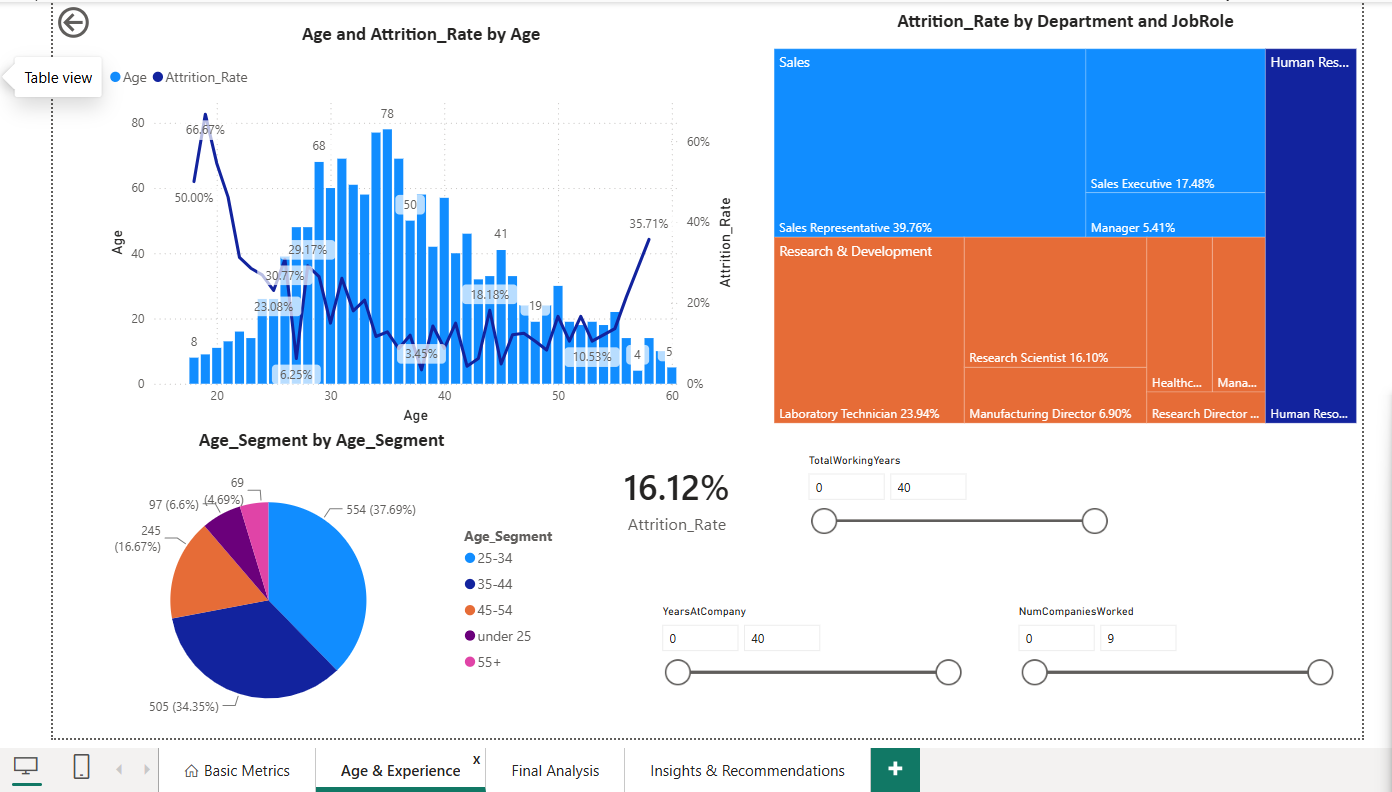

What the dashboard file says about the page in this screenshot:
{"tool":"powerbi","page":{"name":"Age & Experience","canvas":[1280,720],"ordinal":1},"visuals":[{"type":"lineStackedColumnComboChart","fields":{"Category":["Fact.Age"],"Y":["CountNonNull(Fact.Age)"],"Y2":["_Measures.Attrition_Rate"]},"box":[50.1,19.6,620,397.4],"z":0},{"type":"treemap","fields":{"Group":["Dim_Department.Department","Dim_JobRole.JobRole"],"Values":["_Measures.Attrition_Rate"],"Details":["Dim_JobRole.JobRole"]},"box":[700.7,7.3,579.6,409.6],"z":1000},{"type":"actionButton","box":[0,0,100,40],"z":2000},{"type":"pieChart","fields":{"Category":["Fact.Age_Segment"],"Y":["CountNonNull(Fact.Age_Segment)"]},"box":[14.7,417,496.5,303.3],"z":3000},{"type":"slicer","fields":{"Values":["Fact.TotalWorkingYears"]},"box":[726.4,436.6,314.3,97.8],"z":4000},{"type":"slicer","fields":{"Values":["Fact.YearsAtCompany"]},"box":[583.3,584.5,314.3,101.5],"z":5000},{"type":"slicer","fields":{"Values":["Fact.NumCompaniesWorked"]},"box":[931.8,584.5,328.9,101.5],"z":6000},{"type":"cardVisual","fields":{"Data":["_Measures.Attrition_Rate"]},"box":[520.9,417,179.8,137],"z":7000}]}

Visuals, with their boxes on the page's 1280x720 design canvas (x1, y1, x2, y2). These are canvas units, not pixel positions in the 1392x792 screenshot, which may show the page scaled, cropped or inside an application window:
lineStackedColumnComboChart - Fact.Age x CountNonNull(Fact.Age): detection(50, 20, 670, 417)
treemap - Dim_Department.Department x Dim_JobRole.JobRole: detection(701, 7, 1280, 417)
actionButton: detection(0, 0, 100, 40)
pieChart - Fact.Age_Segment x CountNonNull(Fact.Age_Segment): detection(15, 417, 511, 720)
slicer - Fact.TotalWorkingYears: detection(726, 437, 1041, 534)
slicer - Fact.YearsAtCompany: detection(583, 584, 898, 686)
slicer - Fact.NumCompaniesWorked: detection(932, 584, 1261, 686)
cardVisual - _Measures.Attrition_Rate: detection(521, 417, 701, 554)
